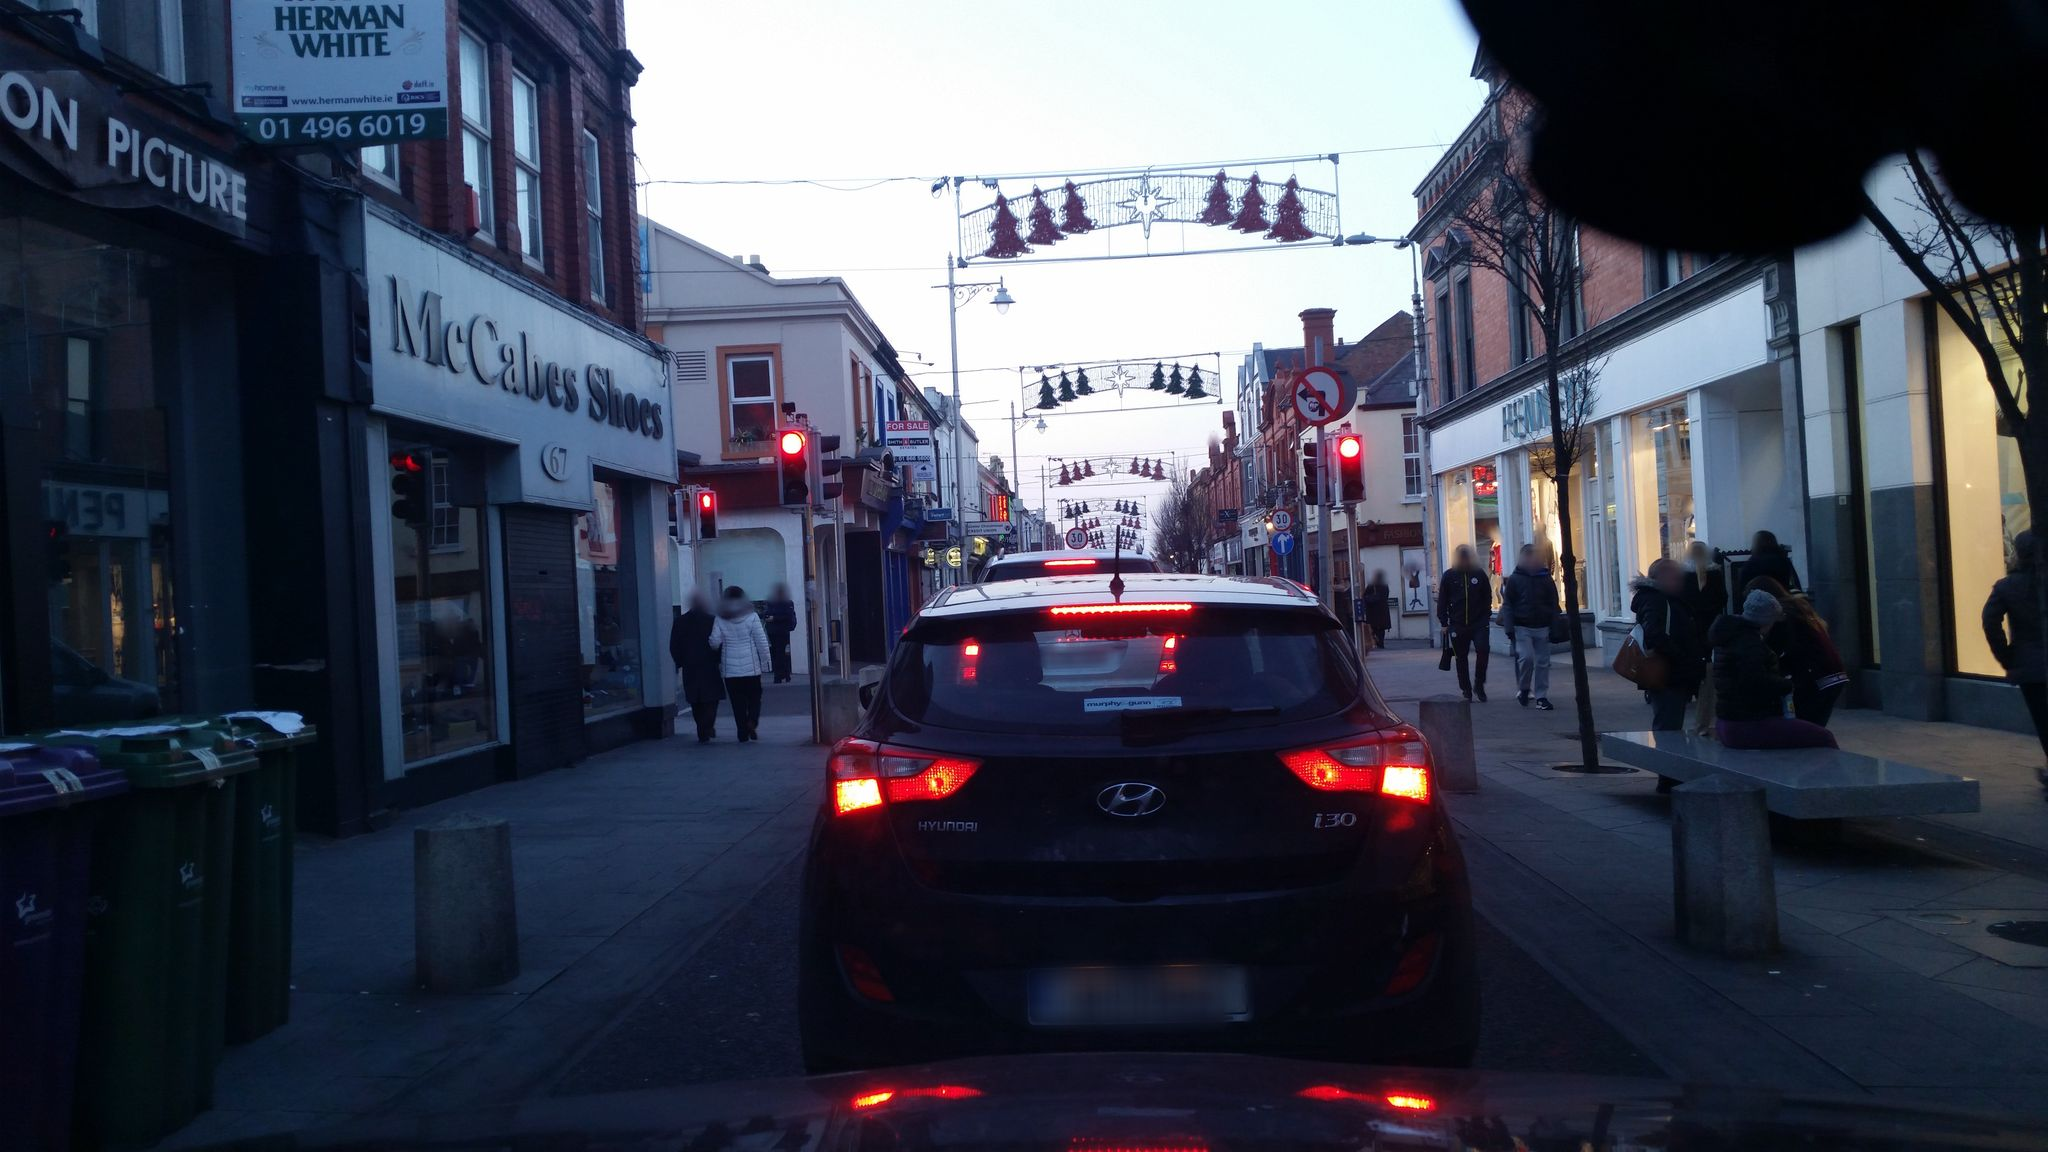property sign: (224, 1, 477, 167), (875, 402, 941, 473)
